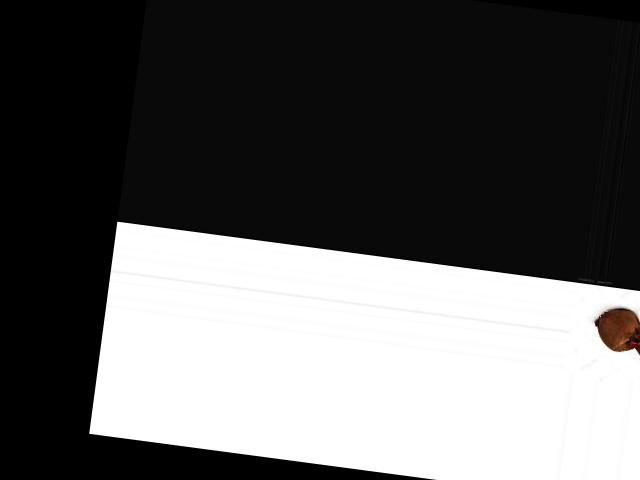beet: (589, 304, 640, 372)
